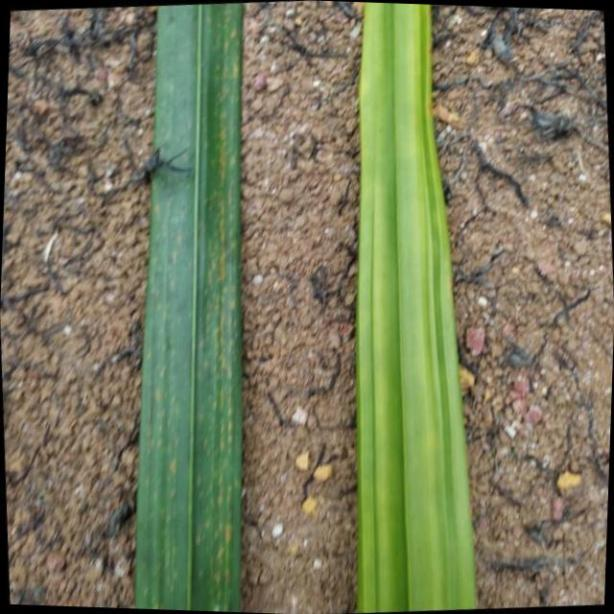nitrogen: (352, 0, 478, 614), (137, 0, 248, 614)
